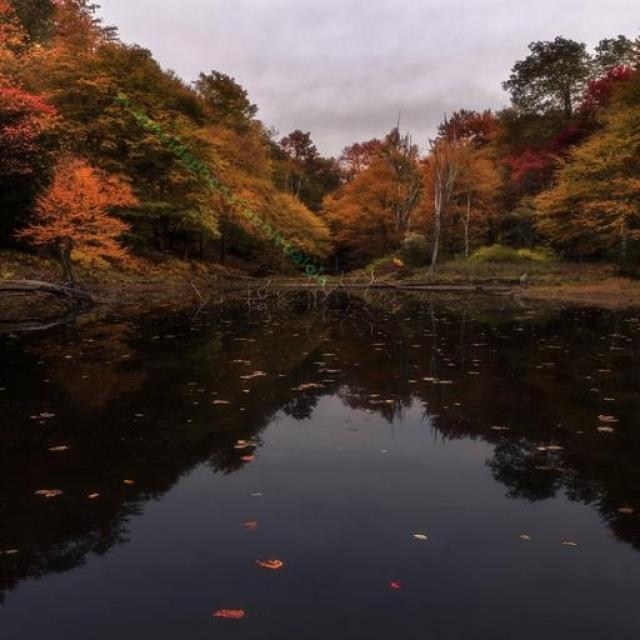watermark: (108, 84, 334, 290)
